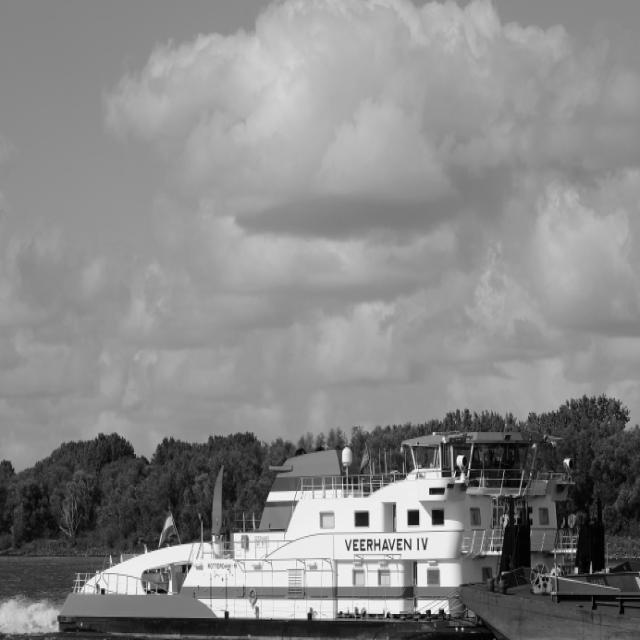tugboat: (51, 426, 613, 640)
